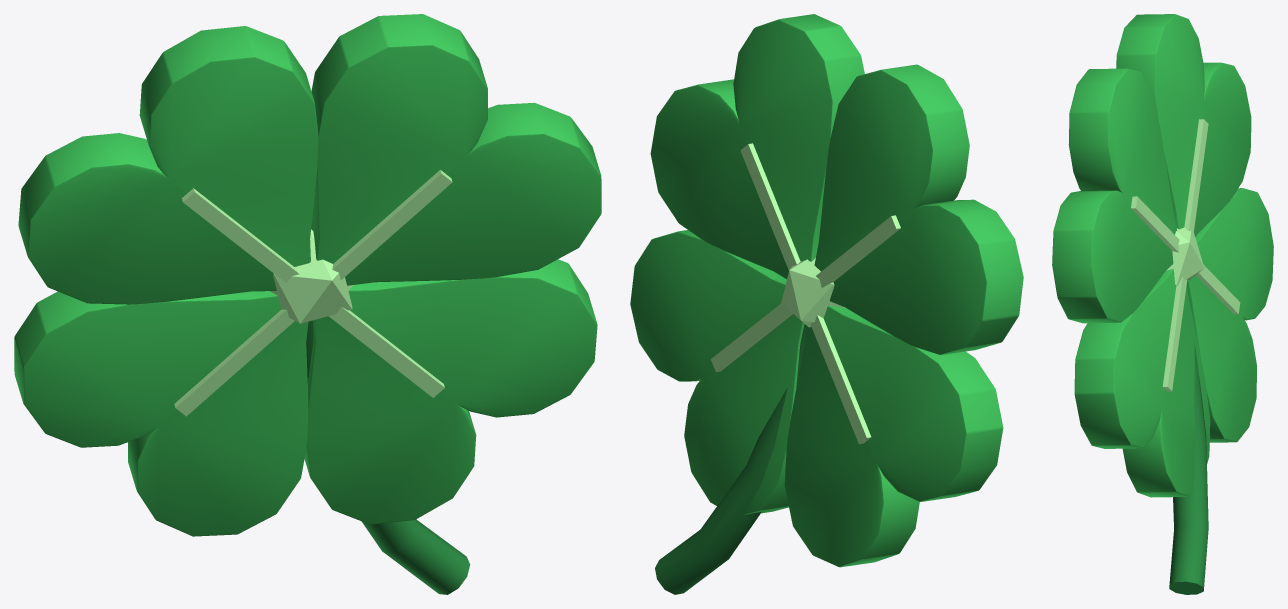
Rendered from FourLeaf.fbx.
3 renders of one model, left to right at view 1: azimuth 30°, elevation 25°; view 2: azimuth 150°, elevation 25°; view 3: azimuth 270°, elevation 25°, orthographic. The views are drawn at different scales.
Visible parts, largest first — view 1: FourLeaf_Body, FourLeaf_Neon, FourLeaf_Trim; view 2: FourLeaf_Body, FourLeaf_Neon, FourLeaf_Trim; view 3: FourLeaf_Body, FourLeaf_Neon, FourLeaf_Trim.
Boxes of the visible parts, x1,y1,x2,y2 form: FourLeaf_Body: (14,14,601,536); FourLeaf_Neon: (174,170,452,416); FourLeaf_Trim: (306,320,470,594); FourLeaf_Body: (630,14,1023,567); FourLeaf_Neon: (711,143,900,444); FourLeaf_Trim: (655,324,805,594); FourLeaf_Body: (1052,14,1273,497); FourLeaf_Neon: (1131,119,1240,391); FourLeaf_Trim: (1169,343,1208,594).
Size of the model in its own units: 2.49 by 3 by 1.23.
